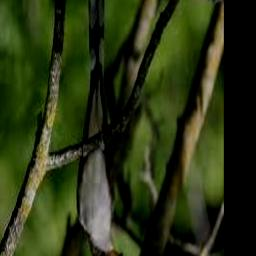Cuckoo: (77, 0, 123, 256)
